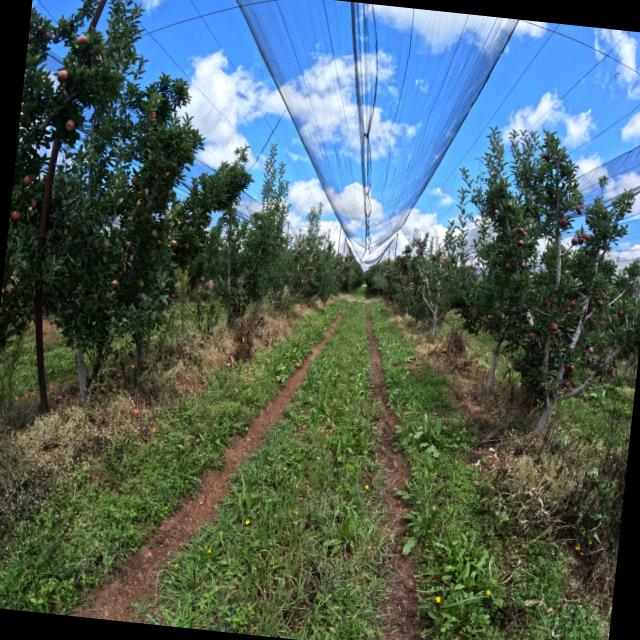-FireBlight-: (474, 318, 495, 335)
